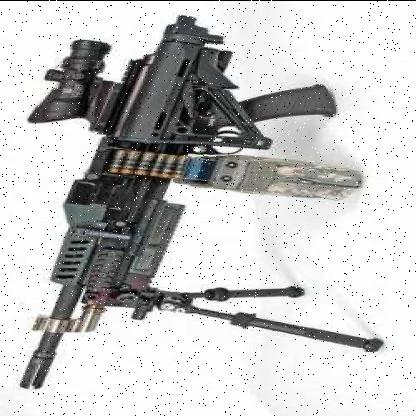rifle: (3, 7, 388, 389)
